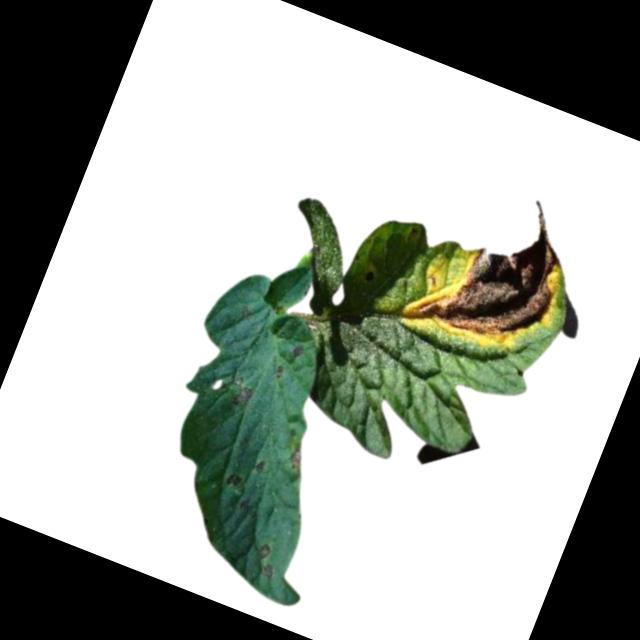Early_blight: (391, 167, 585, 371), (228, 380, 255, 410), (286, 445, 308, 470), (252, 539, 273, 560), (224, 468, 244, 489), (290, 340, 306, 358), (257, 562, 273, 578)
